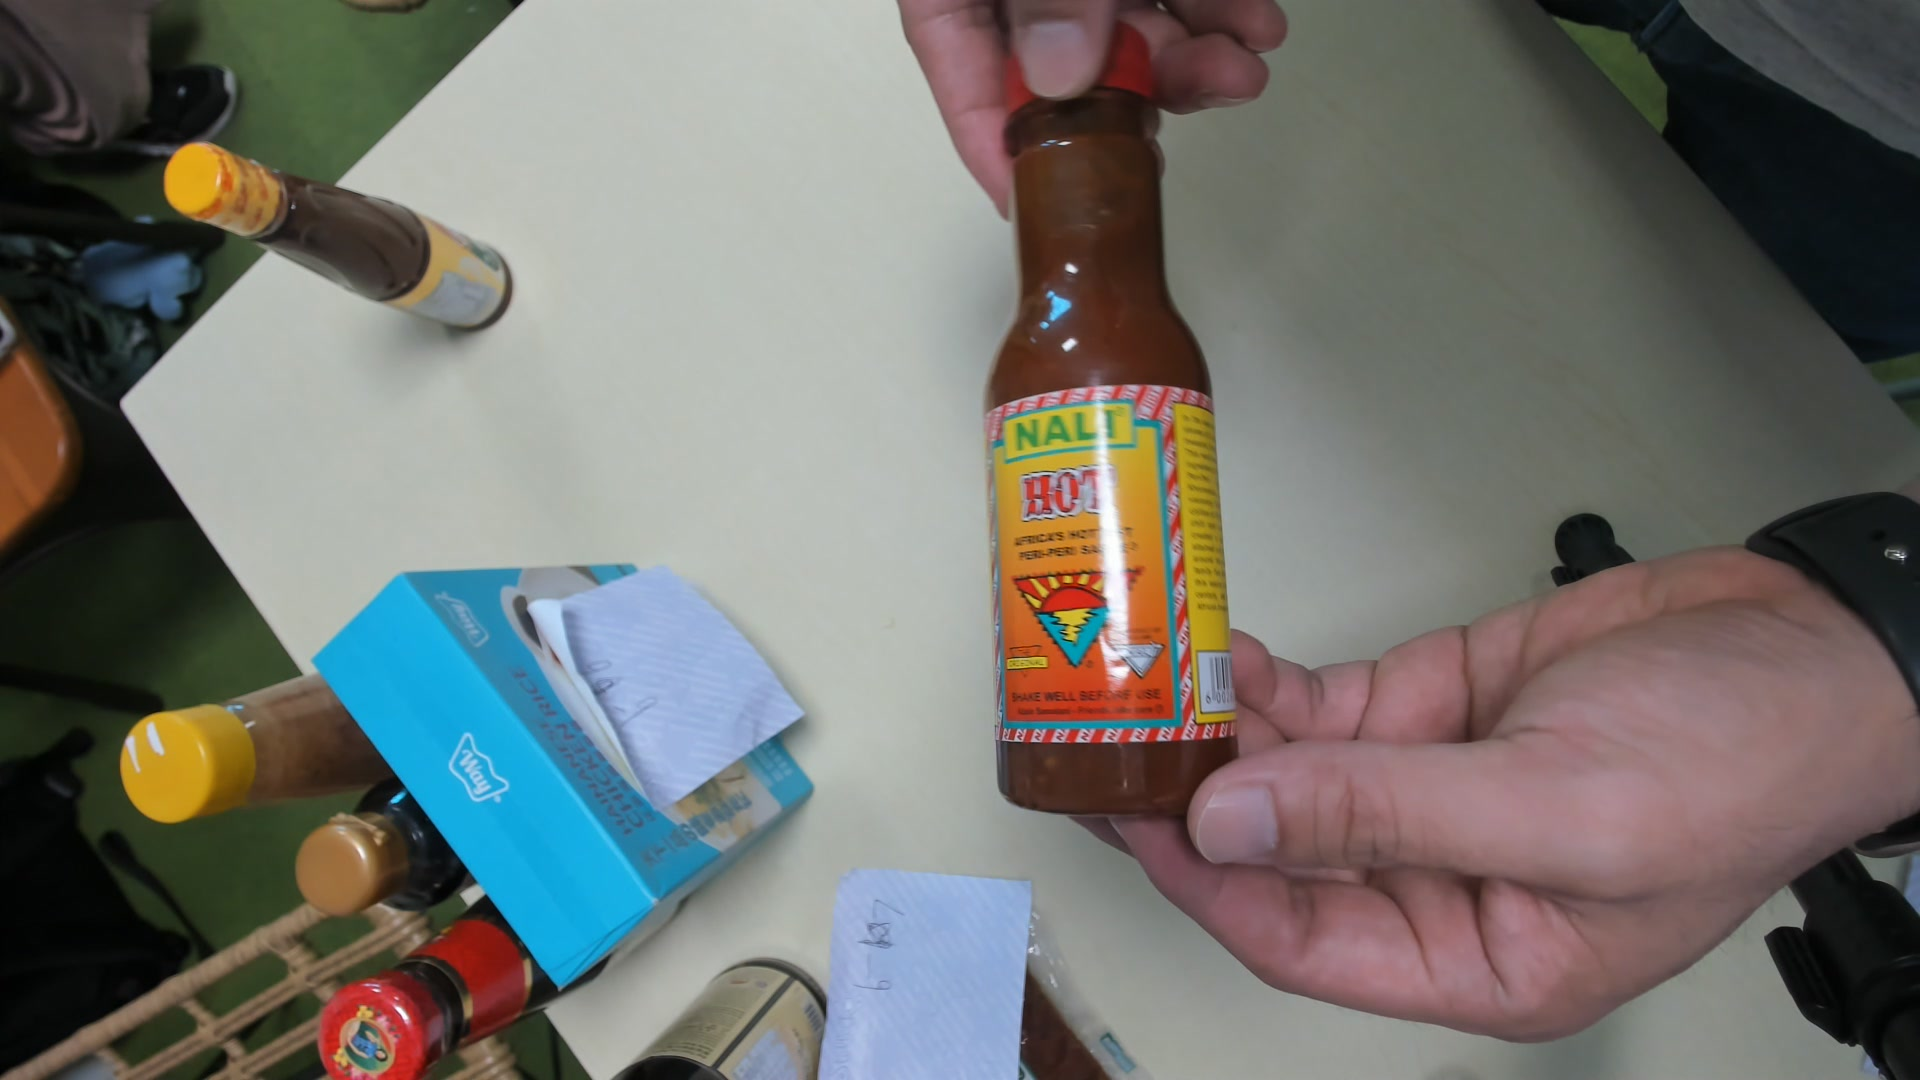KetchupChillSauce_100-199g_Halal_NonHealthy: (980, 33, 1242, 814)
